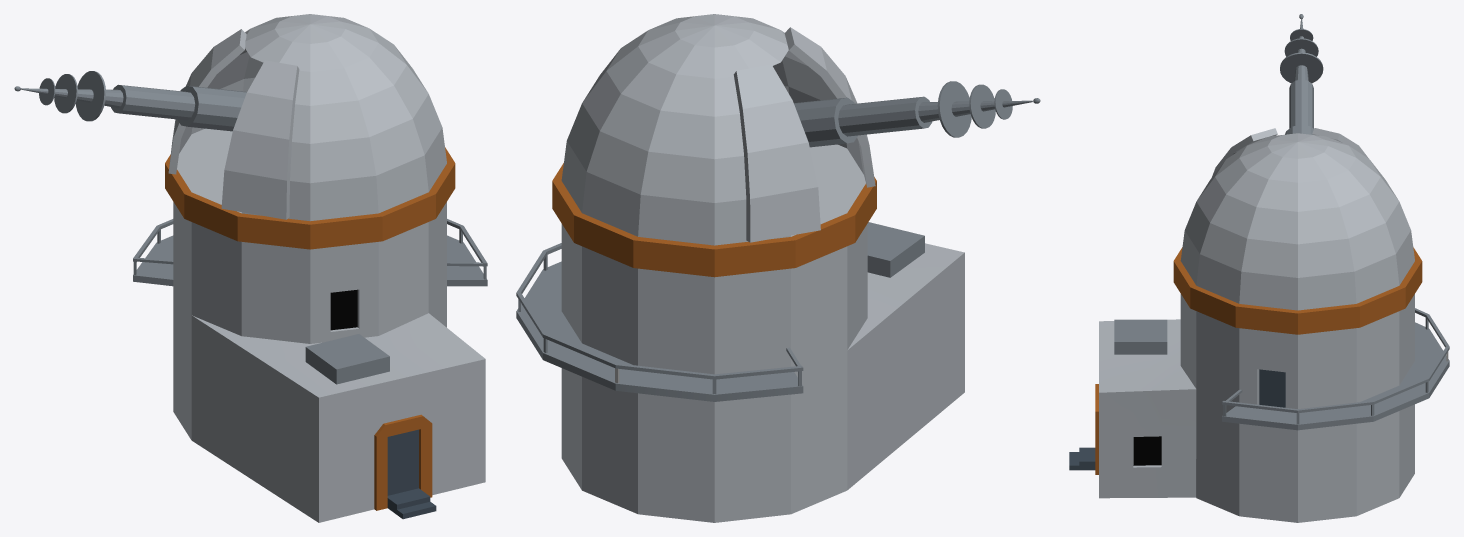
Rendered from obser1.fbx.
3 views of the same model, side by side, from view 1: azimuth 30°, elevation 25°; view 2: azimuth 150°, elevation 25°; view 3: azimuth 270°, elevation 25° (orthographic). The views are drawn at different scales.
Parts seen in each view (by area): view 1: polySurface216, polySurface215, polySurface6, polySurface9, polySurface214, pCube19, polySurface217, polySurface3, polySurface15, polySurface12, polySurface8, pDisc3 (+4 smaller); view 2: polySurface215, polySurface6, polySurface216, polySurface214, polySurface8, polySurface3, polySurface15, polySurface9, pCube19, polySurface5, polySurface12, pDisc3 (+2 smaller); view 3: polySurface215, polySurface6, polySurface216, polySurface214, polySurface3, pCube19, polySurface5, polySurface15, pDisc3, polySurface9, pDisc2.
Boxes of the visible parts, box(x1,y1,x2,y2) form: polySurface216: box(191, 313, 485, 522); polySurface215: box(173, 128, 446, 439); polySurface6: box(179, 14, 446, 221); polySurface9: box(221, 60, 299, 219); polySurface214: box(165, 147, 455, 249); pCube19: box(305, 334, 389, 384); polySurface217: box(374, 414, 432, 510); polySurface3: box(133, 235, 487, 286); polySurface15: box(111, 84, 195, 120); polySurface12: box(177, 85, 246, 131); polySurface8: box(168, 29, 246, 174); pDisc3: box(75, 71, 106, 121); polySurface215: box(561, 144, 867, 522); polySurface6: box(561, 14, 863, 245); polySurface216: box(847, 243, 964, 489); polySurface214: box(552, 163, 876, 277); polySurface8: box(733, 64, 820, 242); polySurface3: box(516, 261, 803, 401); polySurface15: box(838, 96, 932, 136); polySurface9: box(784, 27, 875, 187); pCube19: box(867, 222, 924, 277); polySurface5: box(516, 243, 803, 379); polySurface12: box(794, 97, 858, 147); pDisc3: box(937, 81, 971, 137); polySurface215: box(1180, 294, 1414, 522); polySurface6: box(1180, 133, 1414, 310); polySurface216: box(1099, 319, 1196, 498); polySurface214: box(1173, 247, 1422, 334); polySurface3: box(1222, 322, 1449, 430); pCube19: box(1114, 319, 1167, 354); polySurface5: box(1222, 308, 1449, 413); polySurface15: box(1289, 79, 1313, 128); pDisc3: box(1280, 52, 1323, 83); polySurface9: box(1212, 128, 1277, 176); pDisc2: box(1284, 38, 1318, 56).
Size of the model in its own units: 1647 by 1389 by 1418.
